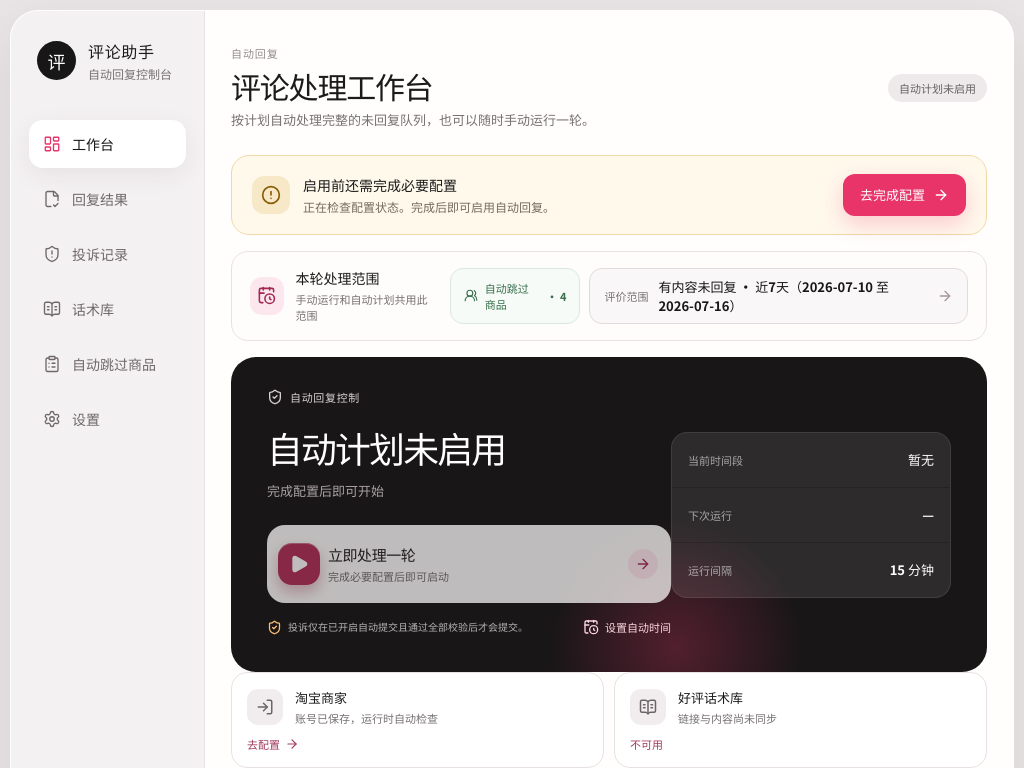
merchant console › places the real manual-product count beside the date selector rather than in health cards
Expected: the button with aria-label "修改本轮处理范围" is shown, [589,268,968,324]
Click the link "自动跳过商品 · 4": (515, 296) [450,268,580,324]
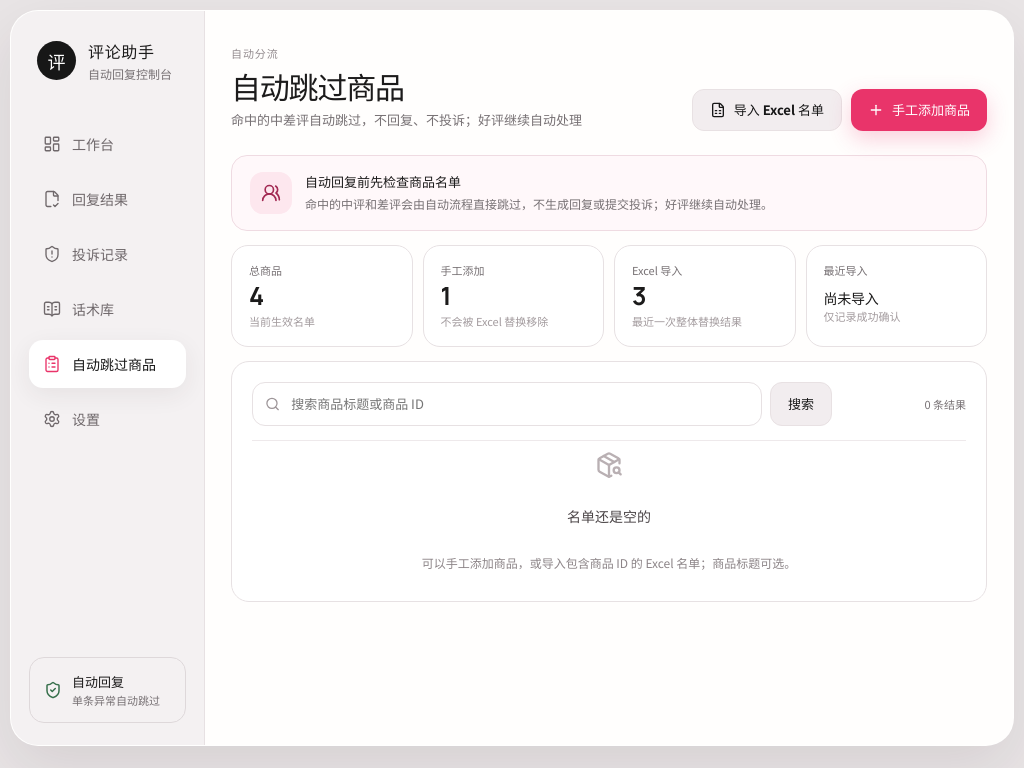
Result: the heading "自动跳过商品" is shown at [231,64,404,108]
Result: the text "命中的中差评自动跳过，不回复、不投诉；好评继续自动处理" is shown at [231,110,582,129]
